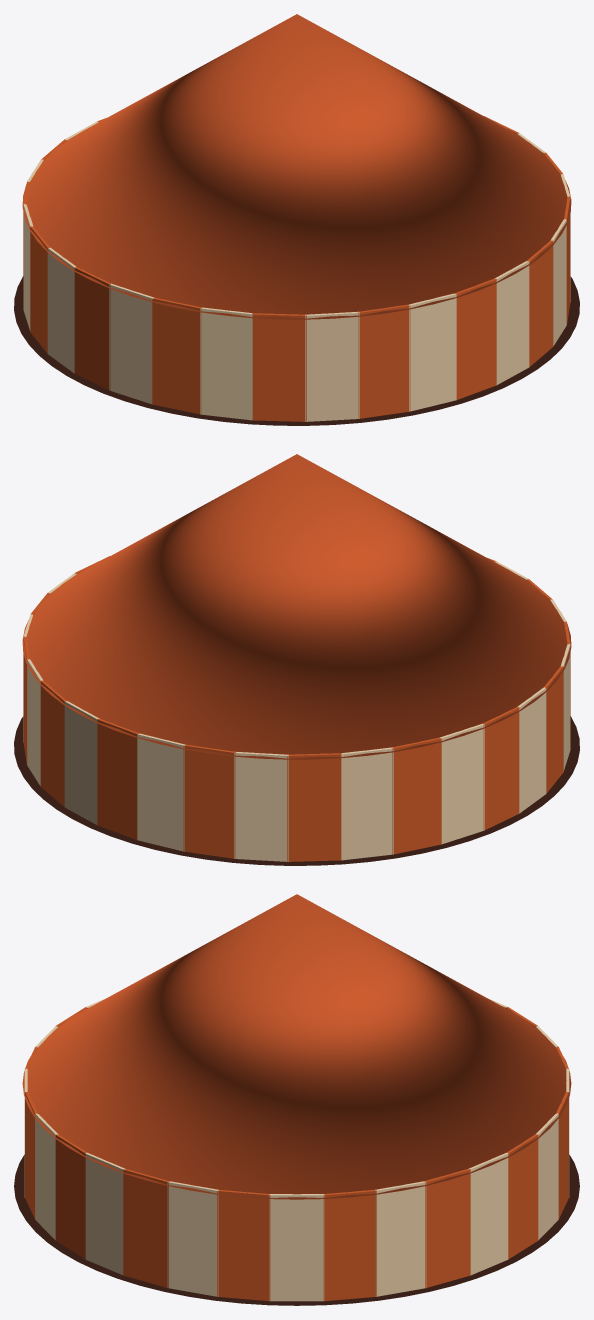
File: LUBIAK_CIRCUS_INTERIOR.glb
3 renders of one model, top to bottom at view 1: azimuth 30°, elevation 25°; view 2: azimuth 150°, elevation 25°; view 3: azimuth 270°, elevation 25°, orthographic.
Visible parts, largest first — view 1: Roof, WallPanel_31, WallPanel_30, WallPanel_29, WallPanel_32, WallPanel_28, WallPanel_01, WallPanel_27, Floor, WallPanel_02, WallPanel_26, WallPanel_03 (+6 smaller); view 2: Roof, WallPanel_19, WallPanel_20, WallPanel_21, WallPanel_18, WallPanel_22, WallPanel_17, WallPanel_23, Floor, WallPanel_16, WallPanel_24, WallPanel_15 (+6 smaller); view 3: Roof, WallPanel_09, WallPanel_10, WallPanel_08, WallPanel_11, WallPanel_07, WallPanel_06, WallPanel_12, Floor, WallPanel_05, WallPanel_13, WallPanel_14 (+5 smaller).
Boxes of the visible parts, x1,y1,x2,y2 form: Roof: (22,14,571,319); WallPanel_31: (305,311,359,421); WallPanel_30: (252,313,306,421); WallPanel_29: (200,307,252,420); WallPanel_32: (358,304,410,418); WallPanel_28: (152,297,201,414); WallPanel_01: (408,293,456,411); WallPanel_27: (109,283,154,404); Floor: (14,276,579,425); WallPanel_02: (454,278,496,399); WallPanel_26: (74,266,110,390); WallPanel_03: (494,261,529,385); Roof: (22,454,571,759); WallPanel_19: (234,751,288,861); WallPanel_20: (287,753,341,861); WallPanel_21: (341,747,393,860); WallPanel_18: (183,744,235,858); WallPanel_22: (392,737,441,854); WallPanel_17: (137,733,185,851); WallPanel_23: (439,723,484,844); Floor: (14,716,579,865); WallPanel_16: (97,719,139,839); WallPanel_24: (483,706,519,830); WallPanel_15: (64,701,99,825); Roof: (22,894,571,1199); WallPanel_09: (269,1194,324,1301); WallPanel_10: (323,1190,376,1301); WallPanel_08: (217,1190,270,1301); WallPanel_11: (375,1181,426,1296); WallPanel_07: (167,1181,218,1296); WallPanel_06: (123,1169,169,1288); WallPanel_12: (424,1169,470,1288); Floor: (14,1154,579,1305); WallPanel_05: (85,1152,125,1275); WallPanel_13: (468,1152,508,1275); WallPanel_14: (507,1134,538,1259).
Size of the model in its own units: 46 by 26.2 by 46.
